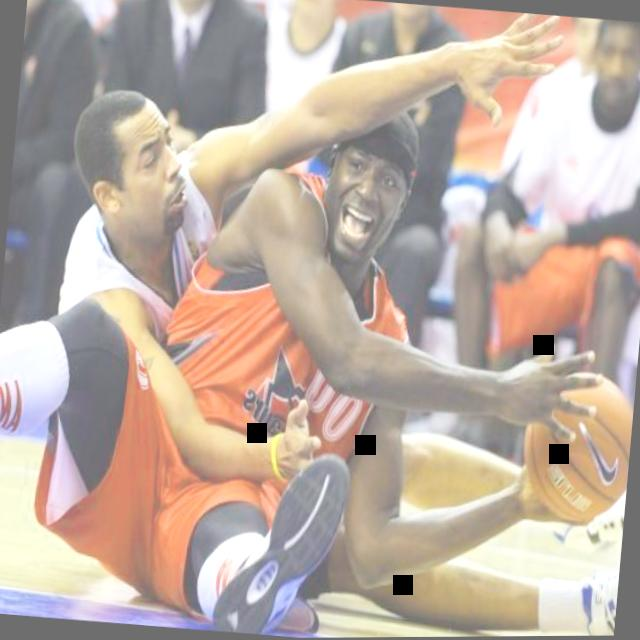Fall-Detected: (44, 0, 640, 640)
